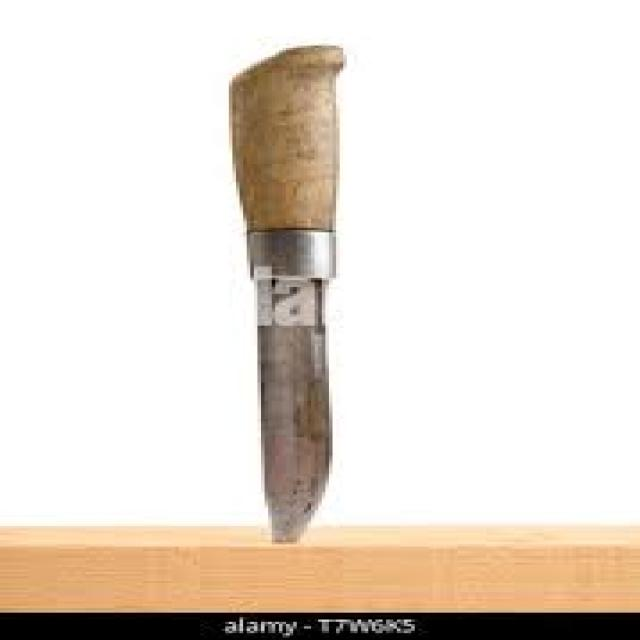Knife: (225, 43, 343, 542)
